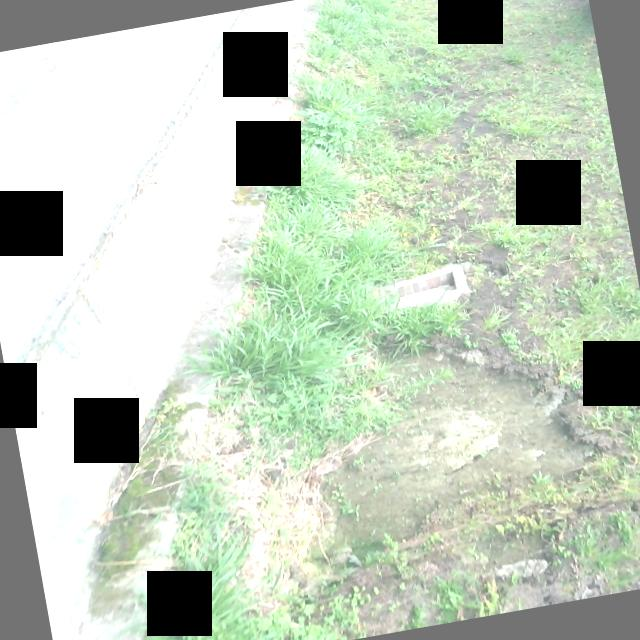DITCH: (0, 0, 577, 640), (0, 0, 432, 640)
